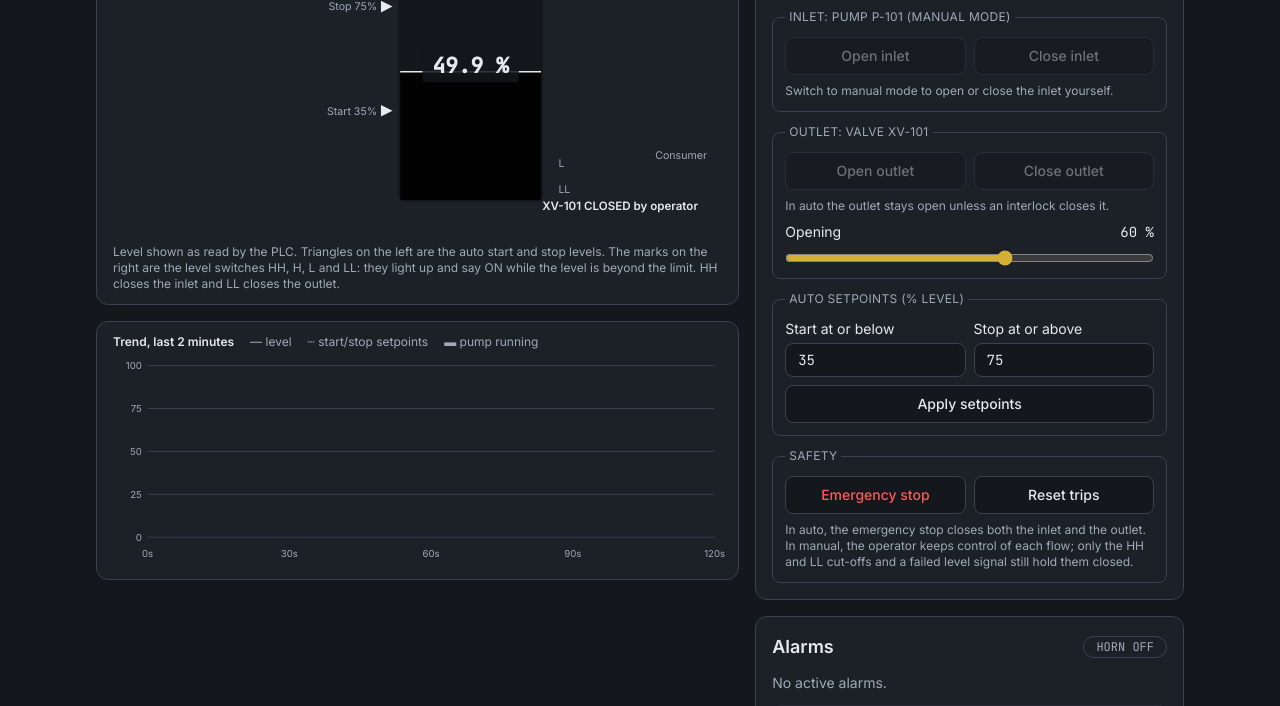
Test: setpoints › explains why invalid setpoints are rejected and keeps the old ones
The image size is (1280, 706).
(page scrolled)
Replace the text in the number field labelled "Stop at or above" with "90". click: (1064,360)
box: [974,343,1154,377]
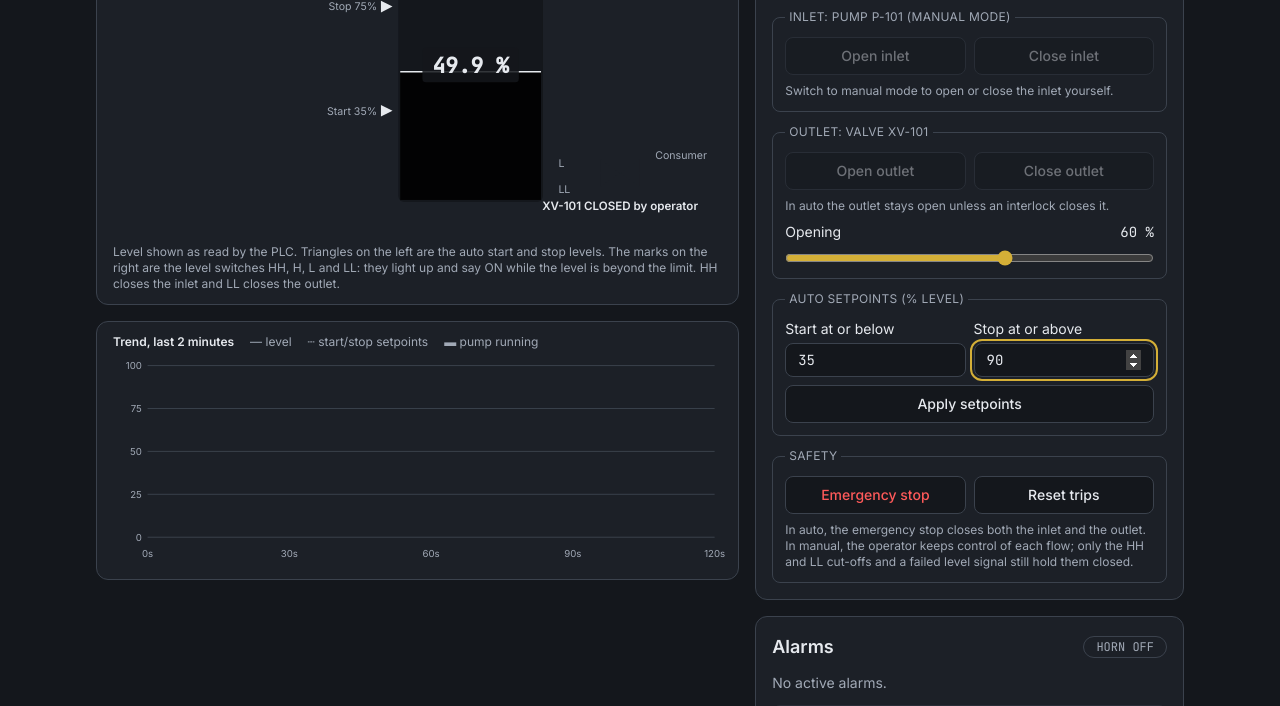
Click the button "Apply setpoints". click: (970,404)
box: [785,385,1154,423]
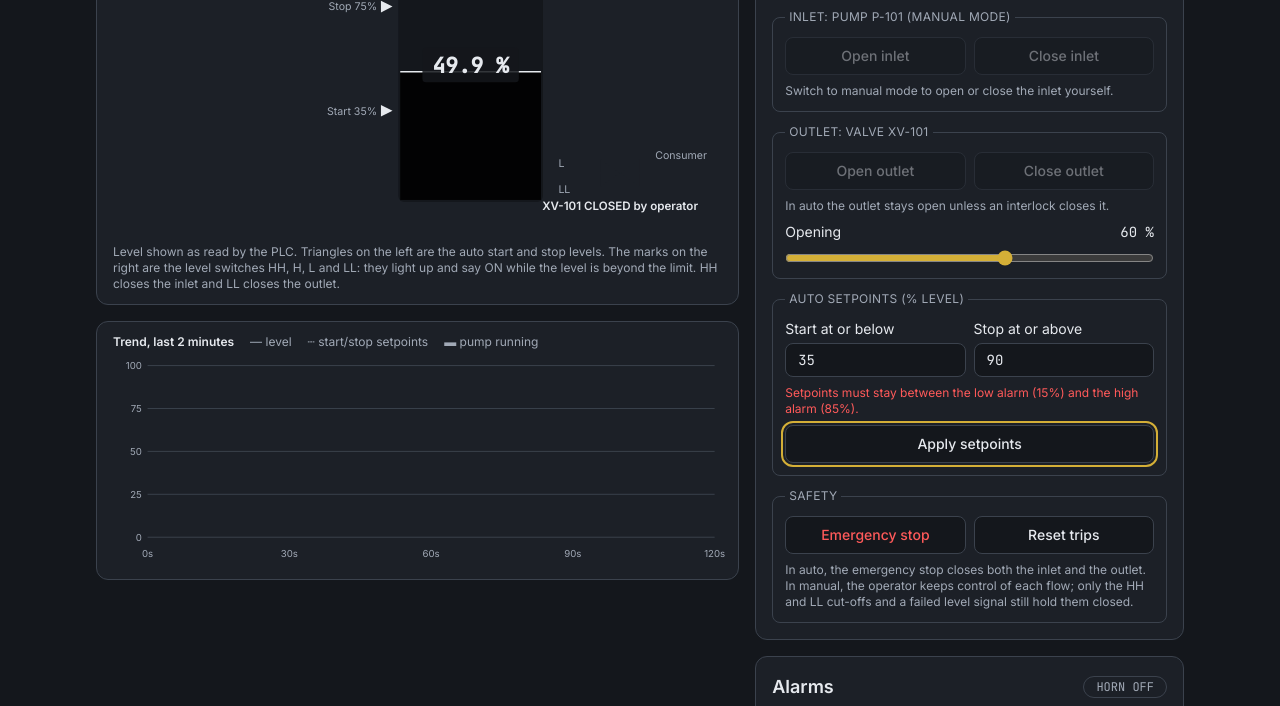
Check: the text "Stop 75%" is shown, box [328,0,377,14]
Check: the message shows "high alarm", box [785,385,1138,416]
